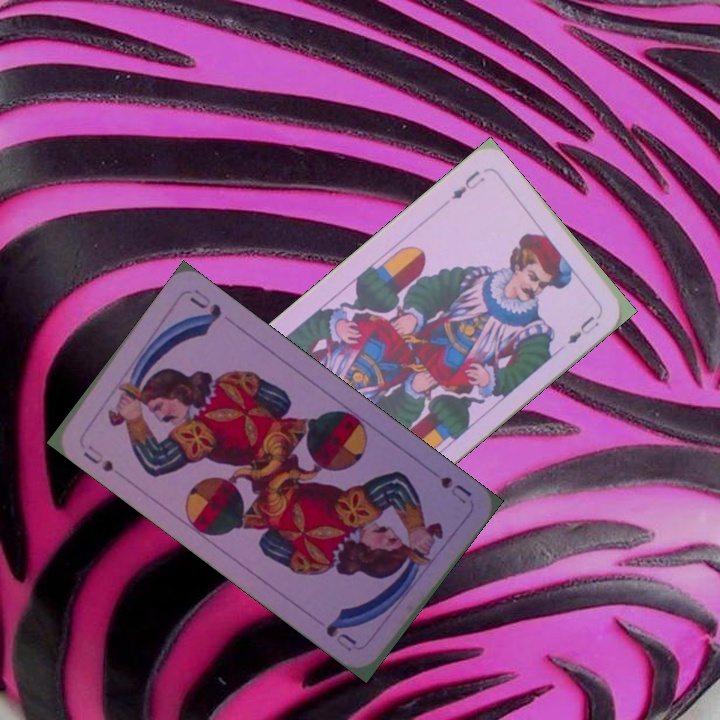EU: (447, 166, 488, 203)
SU: (436, 472, 475, 507), (79, 441, 117, 475)
